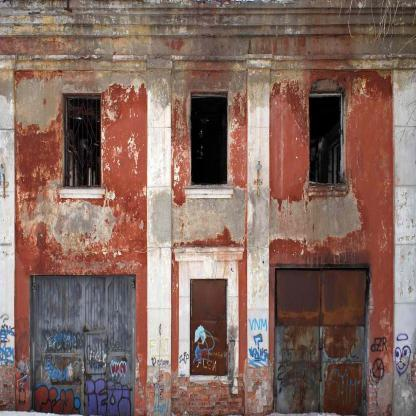Building Outline: (0, 0, 416, 415)
Cornice: (174, 246, 244, 261)
Door: (30, 275, 135, 416), (274, 268, 369, 416)
Facade: (0, 0, 416, 415)
Floor: (0, 40, 416, 217)
Floor Slab: (0, 217, 416, 225)
Ground Floor: (0, 225, 416, 416)
Pillar: (246, 59, 272, 415), (146, 60, 172, 415), (391, 58, 416, 415), (0, 60, 15, 412)
Sill: (184, 187, 233, 199), (58, 188, 105, 198)
Window: (63, 93, 101, 188), (191, 91, 229, 186), (190, 279, 227, 376), (309, 93, 343, 188)
